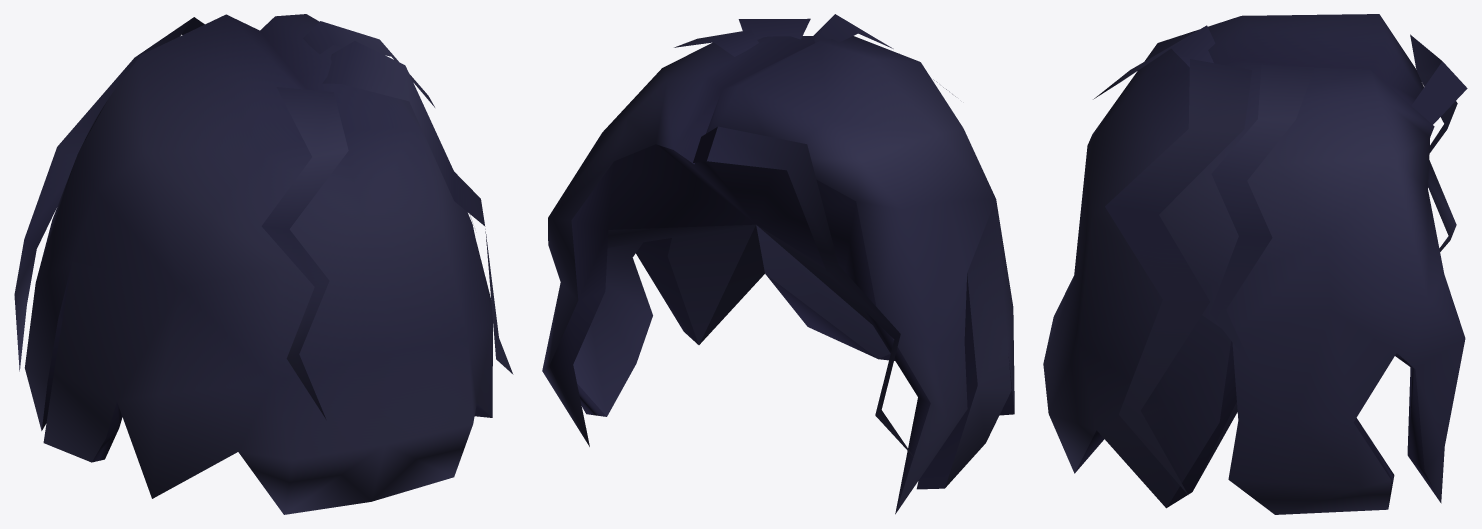
Rendered from hat_purplehair.glb.
3 renders of one model, left to right at view 1: azimuth 30°, elevation 25°; view 2: azimuth 150°, elevation 25°; view 3: azimuth 270°, elevation 25°, orthographic. The views are drawn at different scales.
Visible parts, largest first — view 1: hat_purplehair; view 2: hat_purplehair; view 3: hat_purplehair.
Part boxes in pixels (x1,y1,x2,y2): hat_purplehair: [14, 14, 513, 514]; hat_purplehair: [542, 14, 1014, 514]; hat_purplehair: [1043, 14, 1467, 514].
Bounding box in the file's own units: 0.5641 × 0.5089 × 0.4792.
